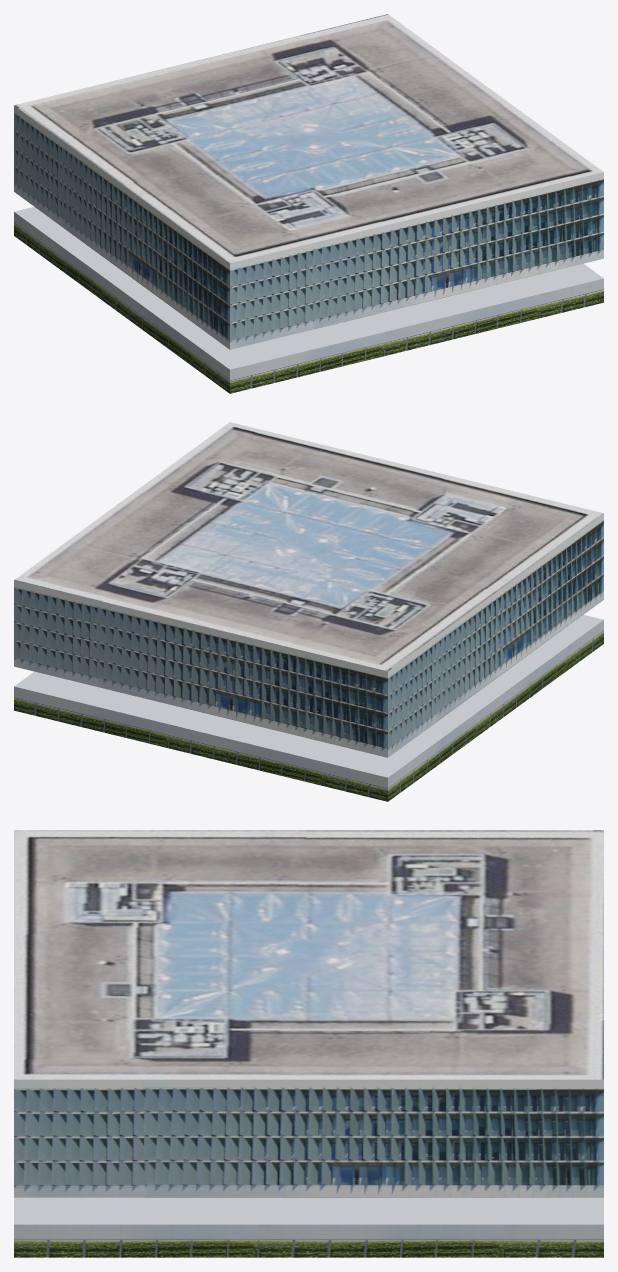
Rendered from KoPf_Altana_Byk_Guldenstr_2_lod3.dae.
3 views of the same model, one above another, from view 1: azimuth 30°, elevation 25°; view 2: azimuth 150°, elevation 25°; view 3: azimuth 270°, elevation 25° (orthographic). The views are drawn at different scales.
Visible parts, largest first — view 1: SketchUp (×4); view 2: SketchUp (×4); view 3: SketchUp (×4).
Part boxes in pixels (box(x1,y1,x2,y2)): SketchUp (×4): box(14, 14, 603, 393); SketchUp (×4): box(14, 422, 603, 801); SketchUp (×4): box(14, 830, 603, 1257).
Size of the model in its own units: 2362 by 2362 by 787.
